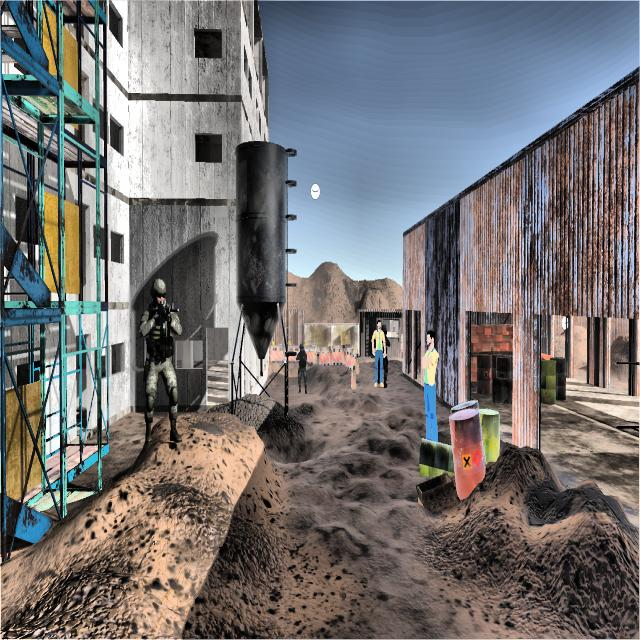bad: (131, 259, 190, 457), (292, 335, 311, 400)
good: (414, 320, 443, 444), (371, 316, 386, 396)
